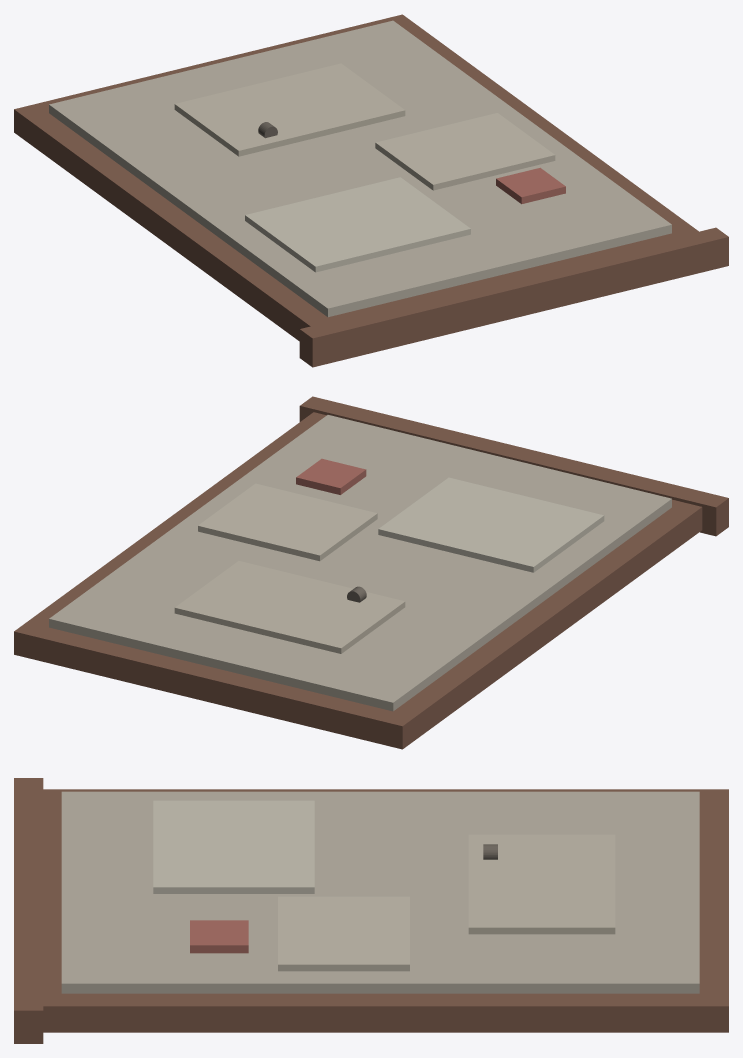
File: poster_board.glb
3 renders of one model, top to bottom at view 1: azimuth 30°, elevation 25°; view 2: azimuth 150°, elevation 25°; view 3: azimuth 270°, elevation 25°, orthographic. The views are drawn at different scales.
Visible parts, largest first — view 1: poster_board_face, poster_board_frame, poster_board_bar, poster_board_note1, poster_board_note3, poster_board_note2, poster_board_stamp; view 2: poster_board_face, poster_board_frame, poster_board_note1, poster_board_note3, poster_board_note2, poster_board_bar, poster_board_stamp; view 3: poster_board_face, poster_board_frame, poster_board_note1, poster_board_note3, poster_board_note2, poster_board_bar, poster_board_stamp.
Boxes of the visible parts, x1,y1,x2,y2 form: poster_board_face: (49,20,671,317); poster_board_frame: (14,14,698,341); poster_board_bar: (299,227,728,367); poster_board_note1: (245,177,470,272); poster_board_note3: (174,63,405,156); poster_board_note2: (375,113,555,190); poster_board_stamp: (496,167,565,204); poster_board_face: (49,415,671,711); poster_board_frame: (14,412,702,749); poster_board_note1: (378,477,604,572); poster_board_note3: (174,561,405,653); poster_board_note2: (198,483,377,561); poster_board_bar: (299,396,728,536); poster_board_stamp: (296,458,366,494); poster_board_face: (61,791,699,993); poster_board_frame: (43,789,728,1032); poster_board_note1: (153,800,314,893); poster_board_note3: (468,834,615,934); poster_board_note2: (278,896,409,971); poster_board_bar: (14,778,43,1043); poster_board_stamp: (190,920,248,953).
Bounding box in the file's own units: 0.75 × 0.087 × 0.975.
